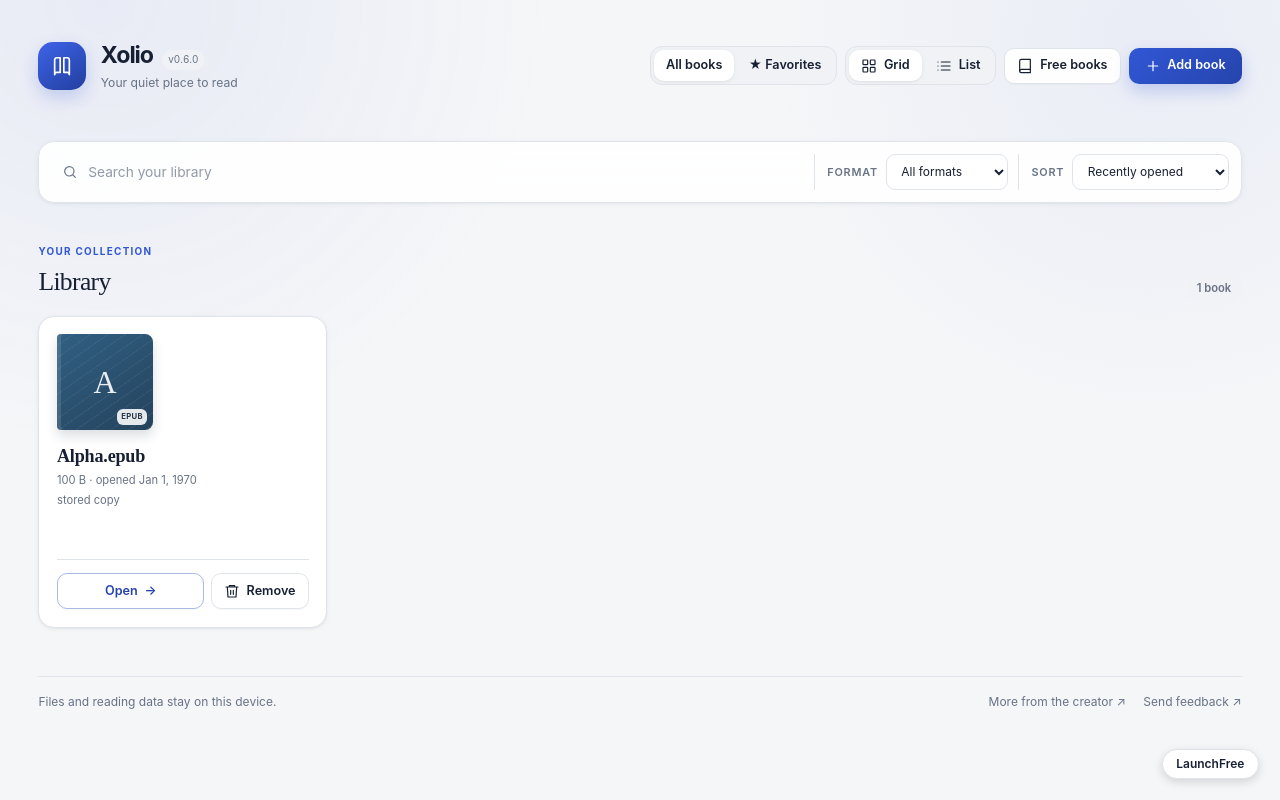
Test: Library search, format filter, and sort › shows a clearable empty state when nothing matches
Type "zzz" into the search field named "Search library" at [440, 172], box [88,153,793,191]
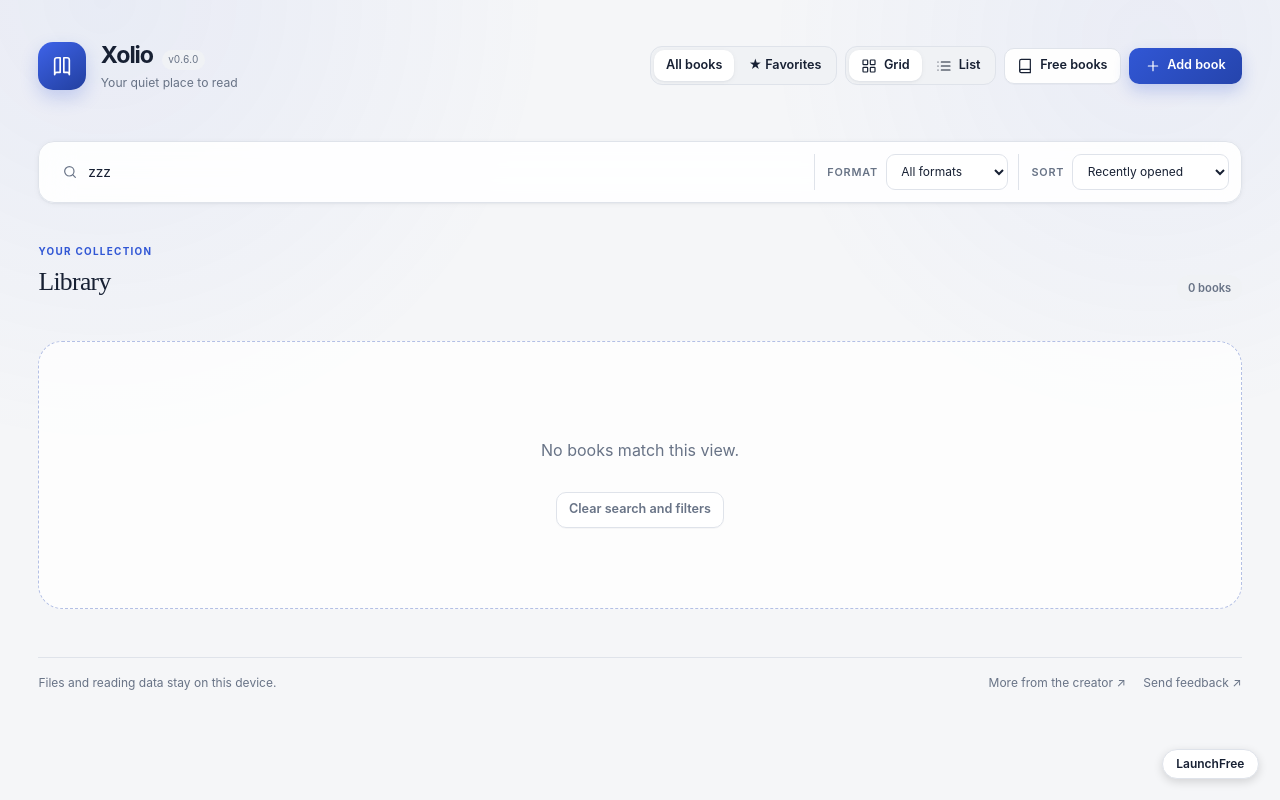
Expected: the text "No books match this view." is shown, [541,440,739,460]
Click the button "Clear search and filters" at [640, 510], box [556,492,724,528]
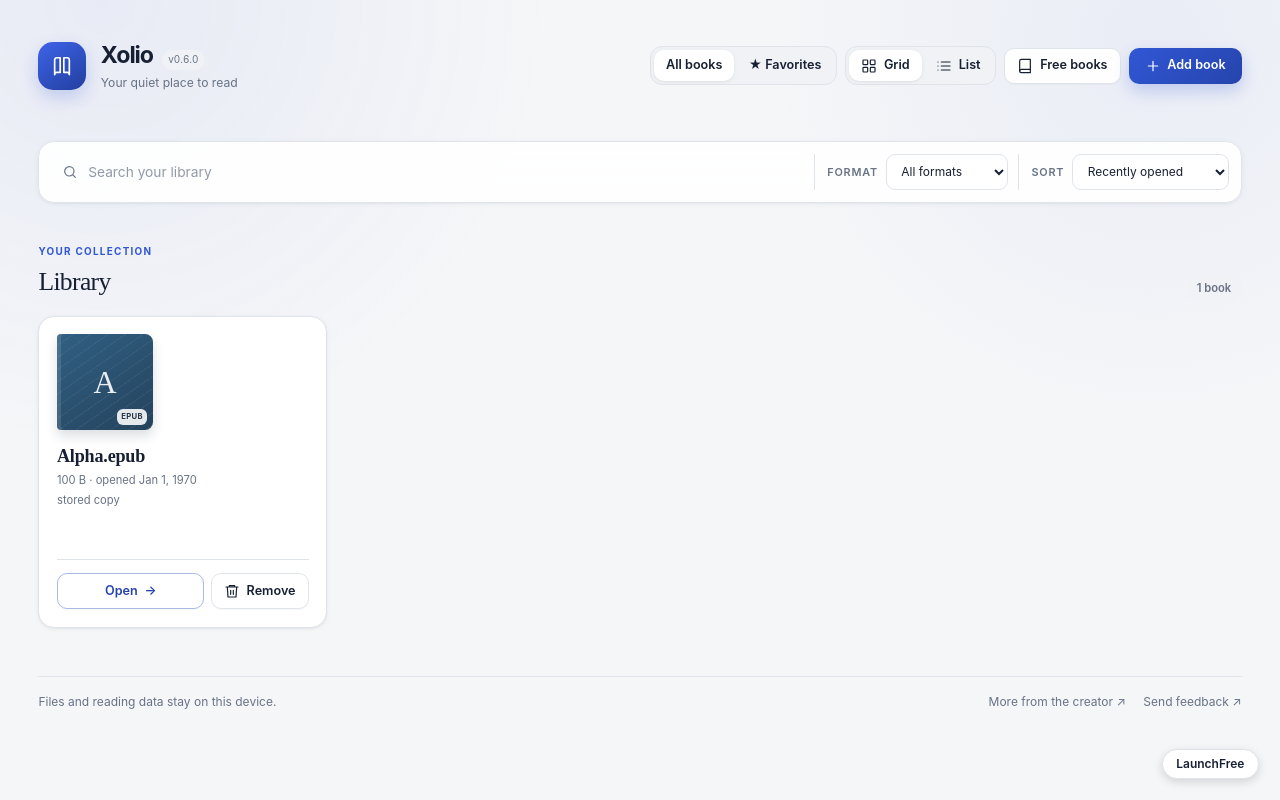
Expected: the text "Alpha.epub" is shown, [57,446,145,466]
